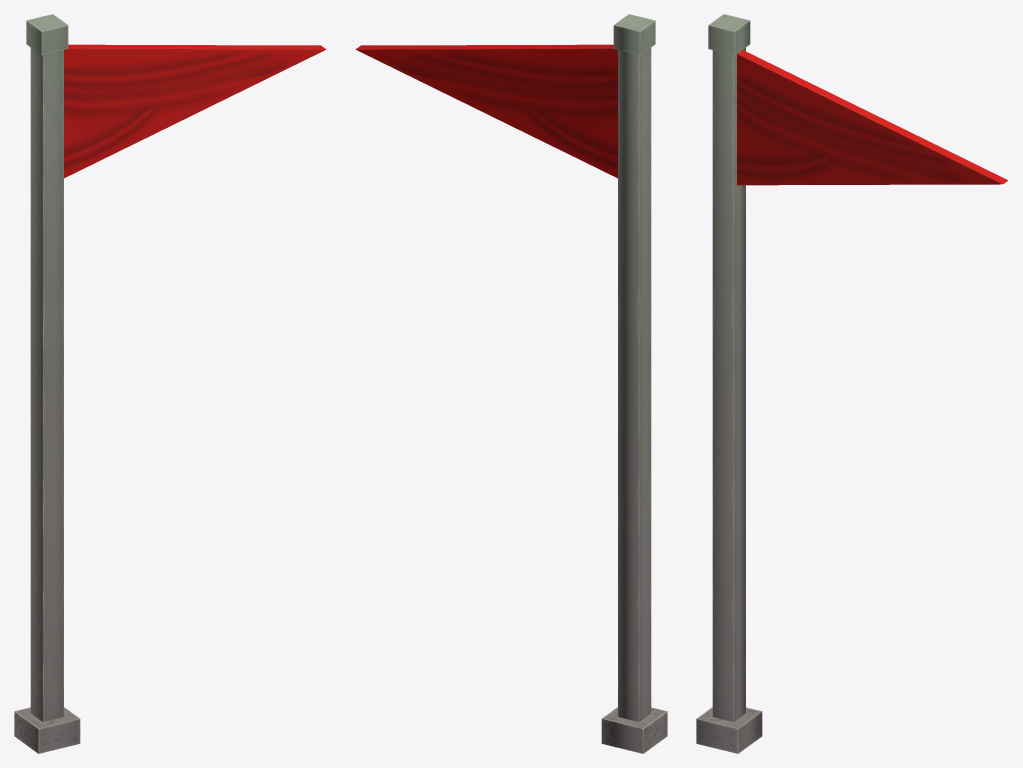
File: SM_Goal_Check_Point_01.glb
The picture shows the model from 3 angles, left to right: view 1: azimuth 30°, elevation 25°; view 2: azimuth 150°, elevation 25°; view 3: azimuth 330°, elevation 25°; orthographic projection.
Parts seen in each view (by area): view 1: SM_Goal_Check_Point_01; view 2: SM_Goal_Check_Point_01; view 3: SM_Goal_Check_Point_01.
Part boxes in pixels (box(x1,y1,x2,y2)): SM_Goal_Check_Point_01: box(14, 14, 326, 753); SM_Goal_Check_Point_01: box(355, 14, 667, 753); SM_Goal_Check_Point_01: box(696, 14, 1008, 753).
Bounding box in the file's own units: 1.13 × 2.59 × 0.1582.
1 material, 1 textured.
